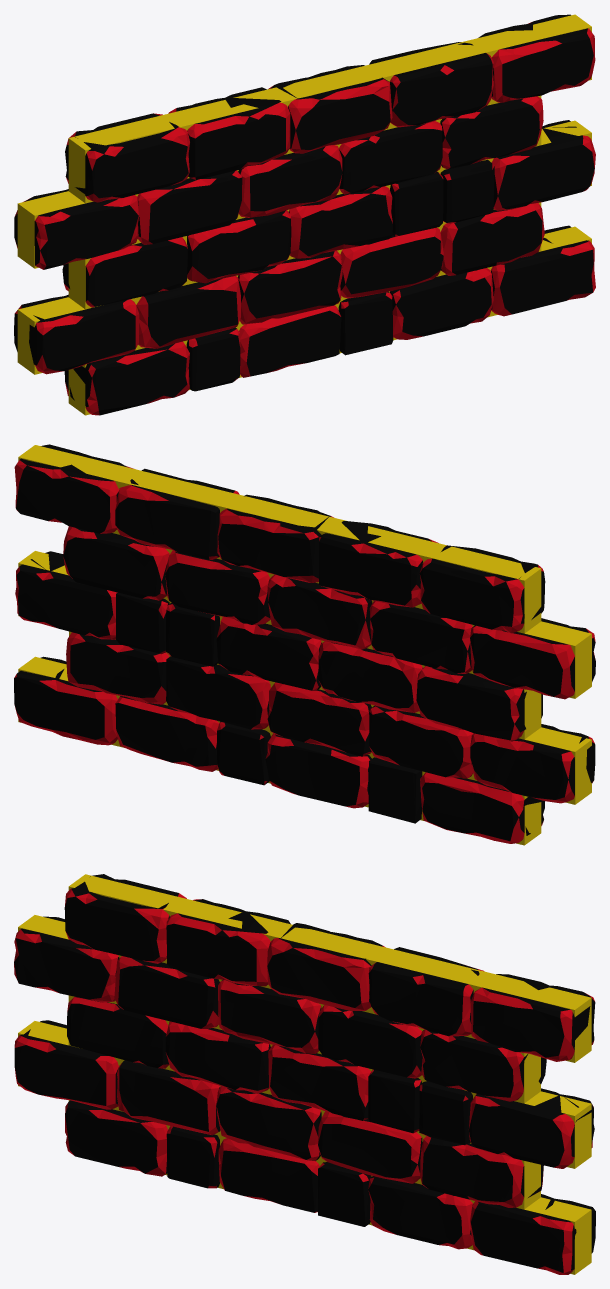
The model's file is DungeonWallHalf.fbx.
The picture shows the model from 3 angles, top to bottom: view 1: azimuth 30°, elevation 25°; view 2: azimuth 150°, elevation 25°; view 3: azimuth 330°, elevation 25°; orthographic projection.
Visible parts, largest first — view 1: DungeonWallHalf; view 2: DungeonWallHalf; view 3: DungeonWallHalf.
Part boxes in pixels (<box>): DungeonWallHalf: <box>14,14,595,415</box>; DungeonWallHalf: <box>14,444,595,845</box>; DungeonWallHalf: <box>14,874,595,1274</box>.
Bounding box in the file's own units: 440 × 44.46 × 200.
